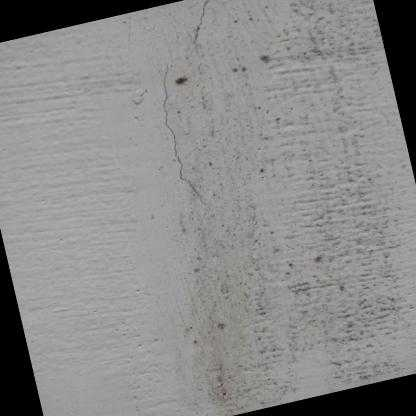crack: (162, 65, 200, 199), (192, 0, 209, 44)
